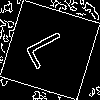L: (24, 24, 78, 71)
